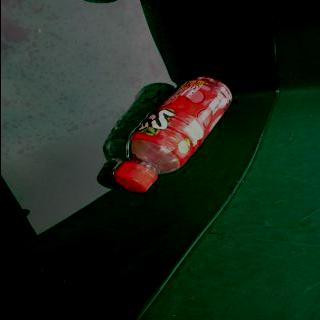bottle: (111, 75, 235, 195)
